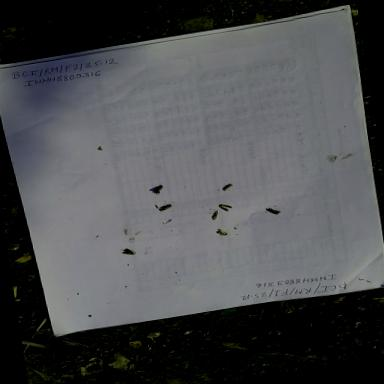pbw: (145, 178, 172, 195), (216, 178, 239, 194), (262, 202, 284, 218), (212, 198, 235, 213), (117, 242, 138, 258), (154, 201, 176, 214), (210, 226, 230, 240), (208, 206, 221, 222)
